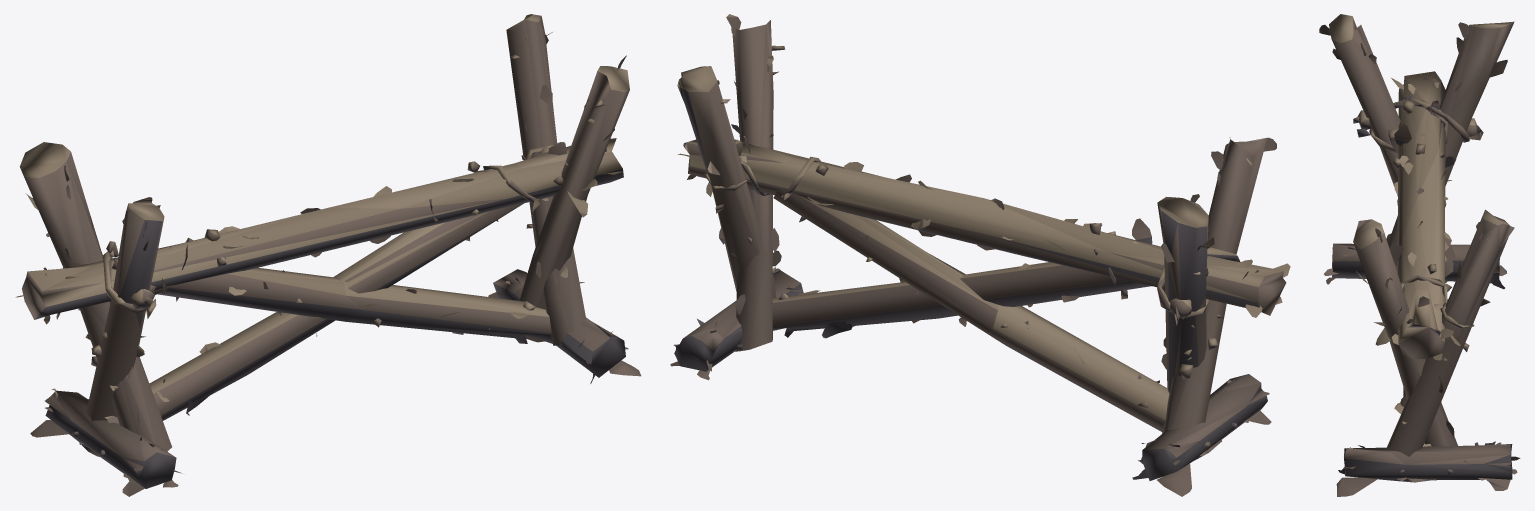
Rendered from palisade.glb.
3 renders of one model, left to right at view 1: azimuth 30°, elevation 25°; view 2: azimuth 150°, elevation 25°; view 3: azimuth 270°, elevation 25°, orthographic. The views are drawn at different scales.
Parts seen in each view (by area): view 1: Smart_palisade; view 2: Smart_palisade; view 3: Smart_palisade.
Part boxes in pixels (box(x1,y1,x2,y2)): Smart_palisade: box(15, 14, 641, 496); Smart_palisade: box(670, 14, 1290, 496); Smart_palisade: box(1319, 14, 1520, 496).
Size of the model in its own units: 6 by 3 by 2.
